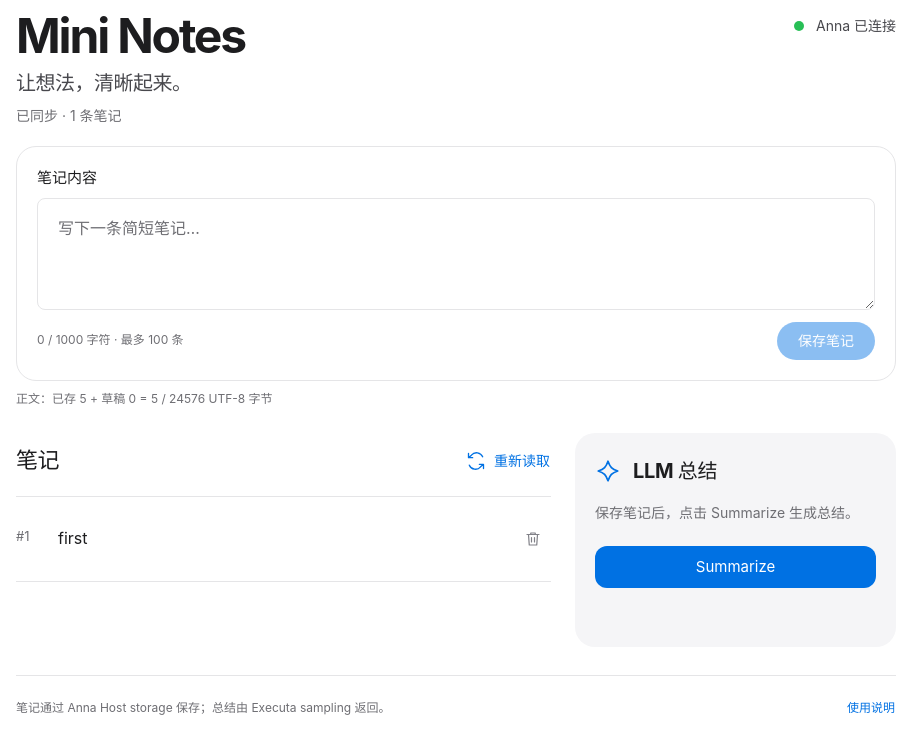
Test: Mini Notes application › allows mutation while sampling and drops its stale response
Expected: the button "重新读取" is enabled, left=457, top=442, right=551, bottom=478
Click the button "Summarize": (736, 566) left=595, top=546, right=876, bottom=588
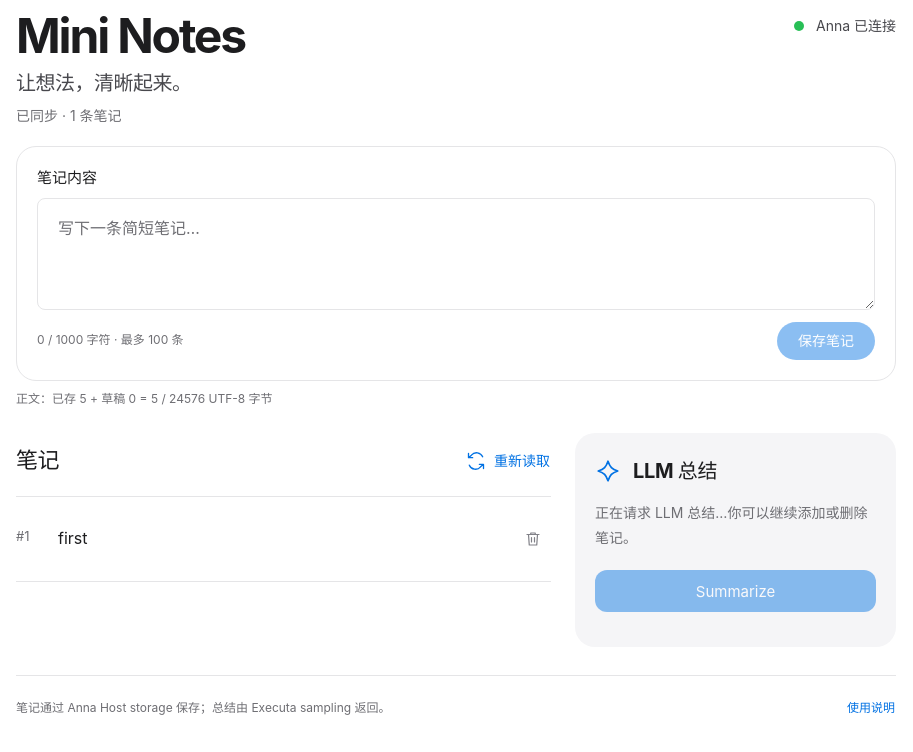
In the text box labelled "笔记内容": (456, 254) left=37, top=198, right=875, bottom=310, type "new note"
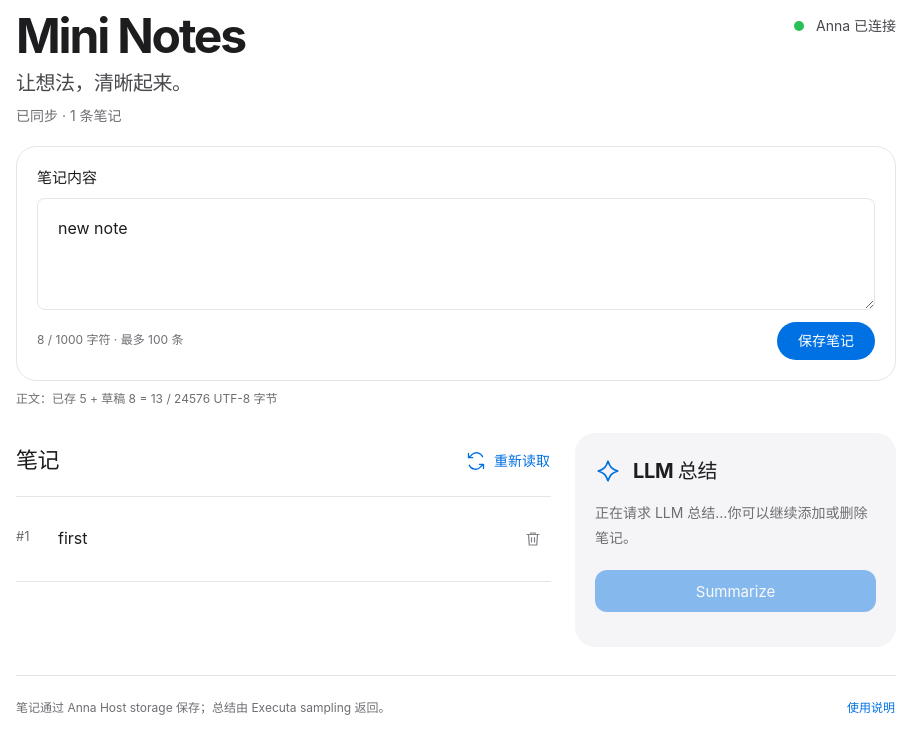
Click the button "保存笔记": (826, 341) left=777, top=322, right=875, bottom=360
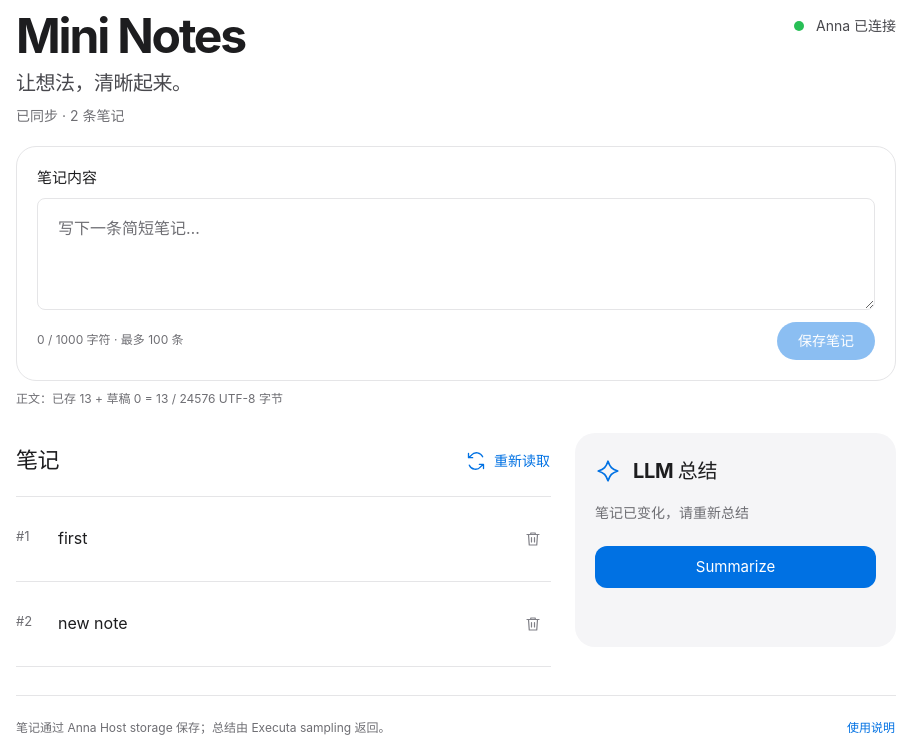
Expected: the list item with test id "note-2" is shown, left=16, top=582, right=551, bottom=667
Expected: the text "笔记已变化，请重新总结" is shown, left=595, top=504, right=749, bottom=521
Expected: the button "Summarize" is enabled, left=595, top=546, right=876, bottom=588
